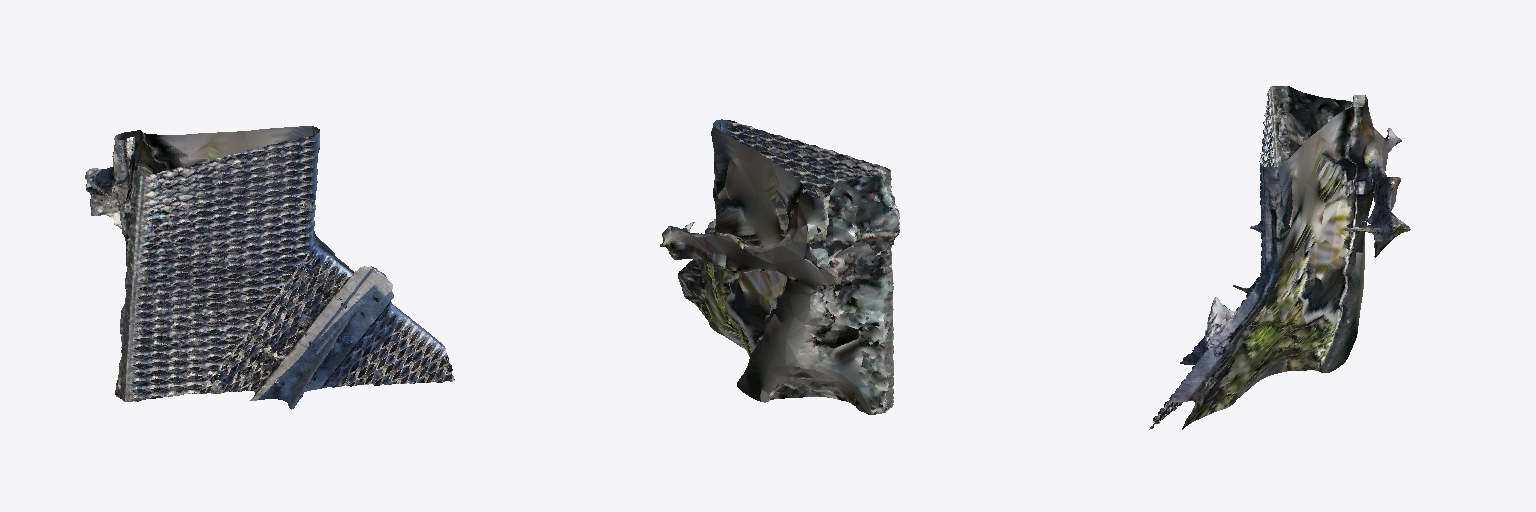
The picture shows the model from 3 angles: view 1: azimuth 30°, elevation 25°; view 2: azimuth 150°, elevation 25°; view 3: azimuth 270°, elevation 25°; orthographic projection.
Bounding box in the file's own units: 0.9375 × 0.7858 × 0.7969.
Materials: 2 (1 with a texture image).